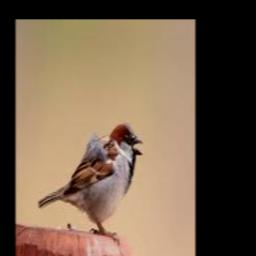Sparrow: (39, 121, 143, 243)
